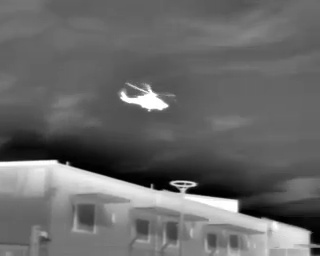HELICOPTER: (115, 75, 180, 118)
